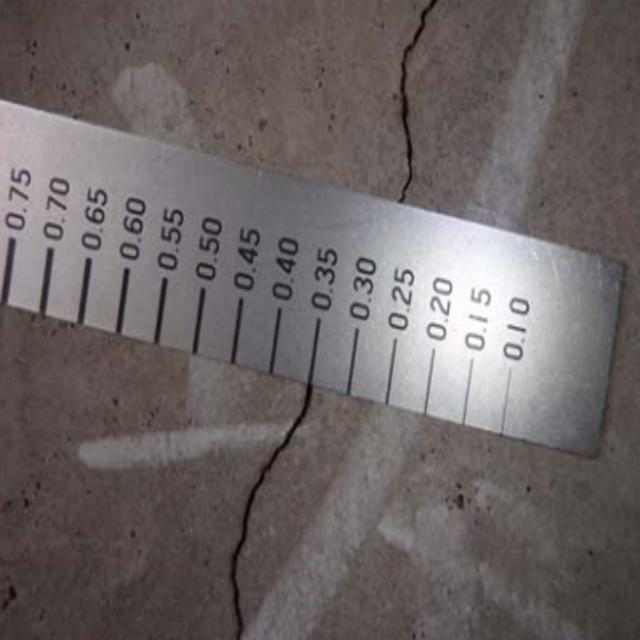crack: (207, 368, 325, 640), (386, 3, 447, 218)
